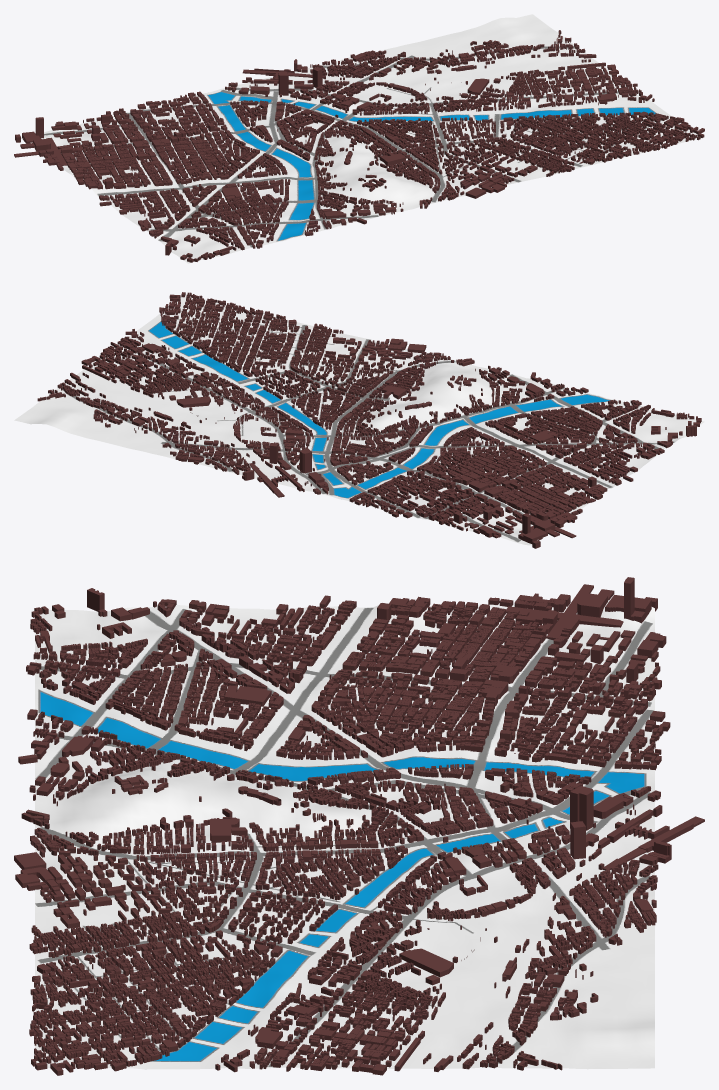
File: MAP SGK ROAD.fbx
The picture shows the model from 3 angles, top to bottom: view 1: azimuth 30°, elevation 25°; view 2: azimuth 150°, elevation 25°; view 3: azimuth 270°, elevation 25°; orthographic projection. The views are drawn at different scales.
Visible parts, largest first — view 1: Areas:building, EXPORT_GOOGLE_SAT_WM; view 2: Areas:building, EXPORT_GOOGLE_SAT_WM; view 3: Areas:building, EXPORT_GOOGLE_SAT_WM.
Boxes of the visible parts, left/top/right/bottom form: Areas:building: left=14, top=30, right=704, bottom=262; EXPORT_GOOGLE_SAT_WM: left=21, top=14, right=701, bottom=263; Areas:building: left=37, top=292, right=701, bottom=548; EXPORT_GOOGLE_SAT_WM: left=14, top=295, right=704, bottom=545; Areas:building: left=14, top=577, right=704, bottom=1075; EXPORT_GOOGLE_SAT_WM: left=35, top=600, right=654, bottom=1069.
Size of the model in its own units: 454470 by 19324 by 272609.
2 materials, 1 textured.
